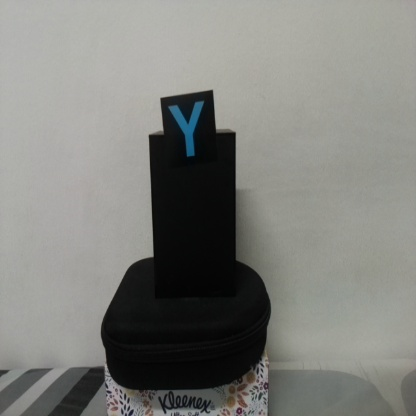id_14: (161, 97, 216, 168)
